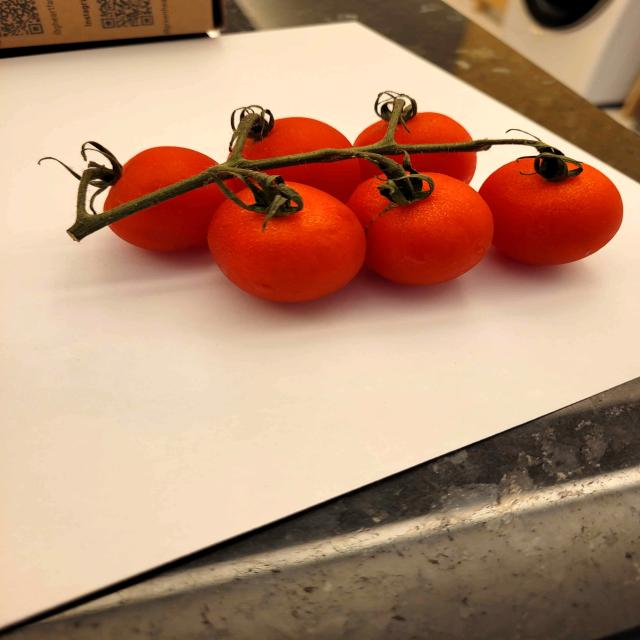ripe2: (207, 182, 366, 302), (348, 172, 494, 285), (479, 158, 623, 265), (109, 185, 225, 253), (102, 146, 217, 211), (243, 117, 353, 159), (280, 160, 361, 202), (395, 112, 472, 144), (411, 152, 476, 184), (355, 120, 387, 146), (361, 162, 370, 179)
